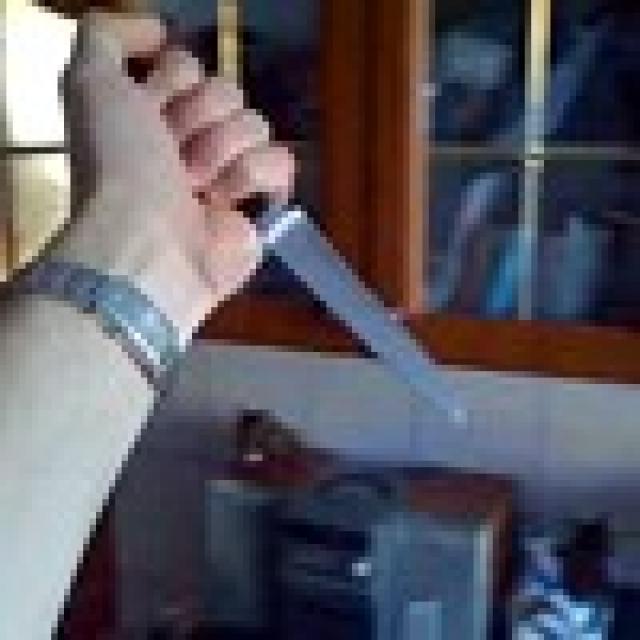Knife: (122, 45, 460, 429)
